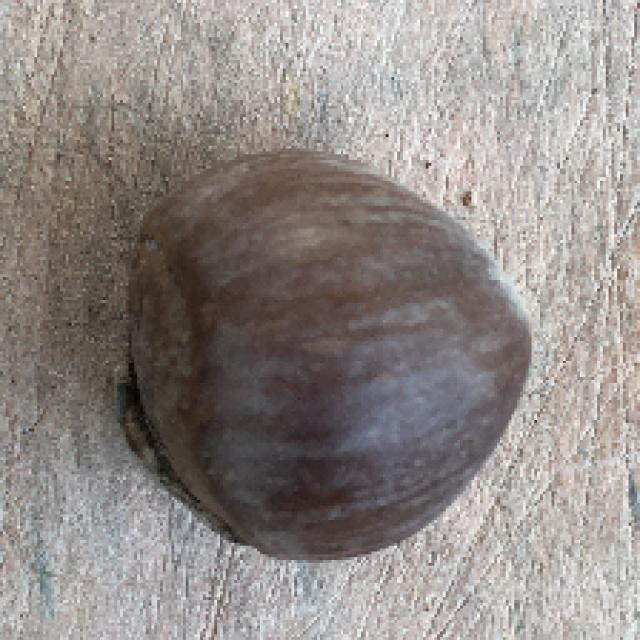DamagedHazelnut: (116, 150, 535, 569)
